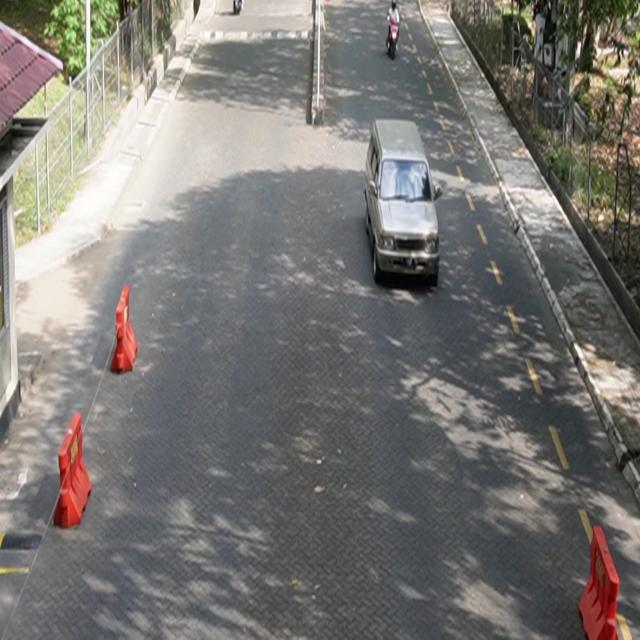car: (364, 119, 443, 288)
